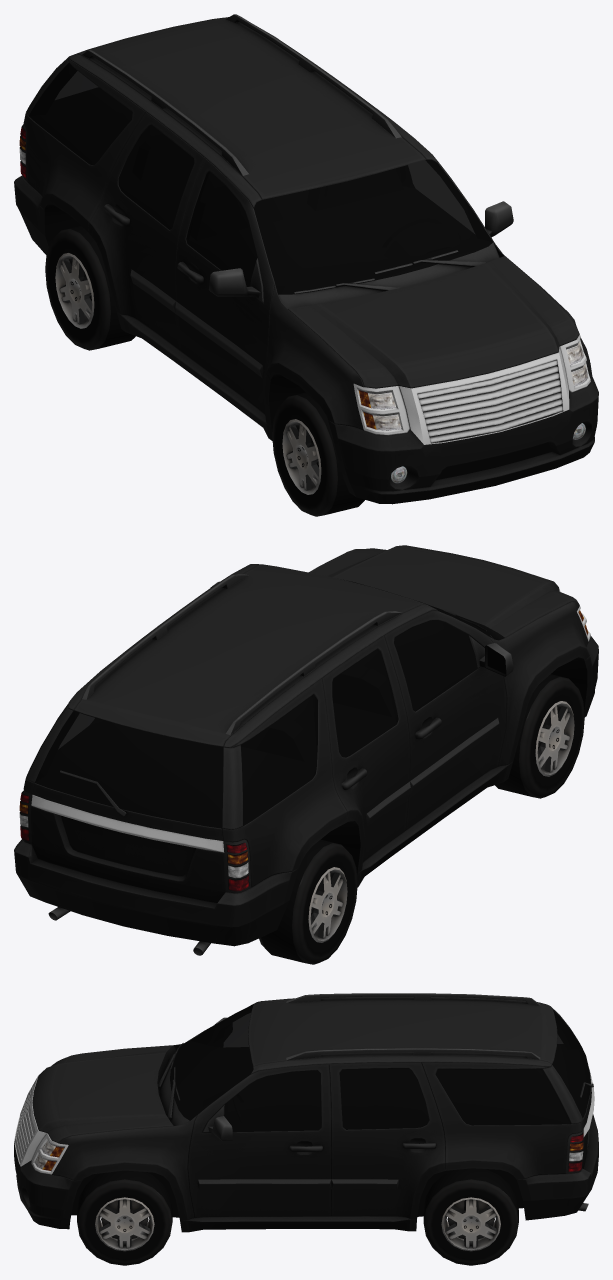
The model's file is SUV.fbx.
3 renders of one model, top to bottom at view 1: azimuth 30°, elevation 25°; view 2: azimuth 150°, elevation 25°; view 3: azimuth 270°, elevation 25°, orthographic. The views are drawn at different scales.
Visible parts, largest first — view 1: SUV, Wheel_E003_Wheel_0.001, Wheel_E002_Wheel_0.001; view 2: SUV, Wheel_E003_Wheel_0.001, Wheel_E002_Wheel_0.001; view 3: SUV, Wheel_E001_Wheel_0.001, Wheel_E_Wheel_0.001.
Boxes of the visible parts, x1=… form: SUV: x1=14, y1=14, x2=598, y2=504; Wheel_E003_Wheel_0.001: x1=45, y1=225, x2=135, y2=350; Wheel_E002_Wheel_0.001: x1=272, y1=392, x2=364, y2=516; SUV: x1=14, y1=545, x2=598, y2=955; Wheel_E003_Wheel_0.001: x1=259, y1=839, x2=357, y2=964; Wheel_E002_Wheel_0.001: x1=495, y1=674, x2=584, y2=798; SUV: x1=14, y1=993, x2=598, y2=1232; Wheel_E001_Wheel_0.001: x1=423, y1=1168, x2=518, y2=1265; Wheel_E_Wheel_0.001: x1=77, y1=1170, x2=172, y2=1265.
Size of the model in its own units: 207 by 173 by 461.
Materials: 4 (3 with a texture image).
